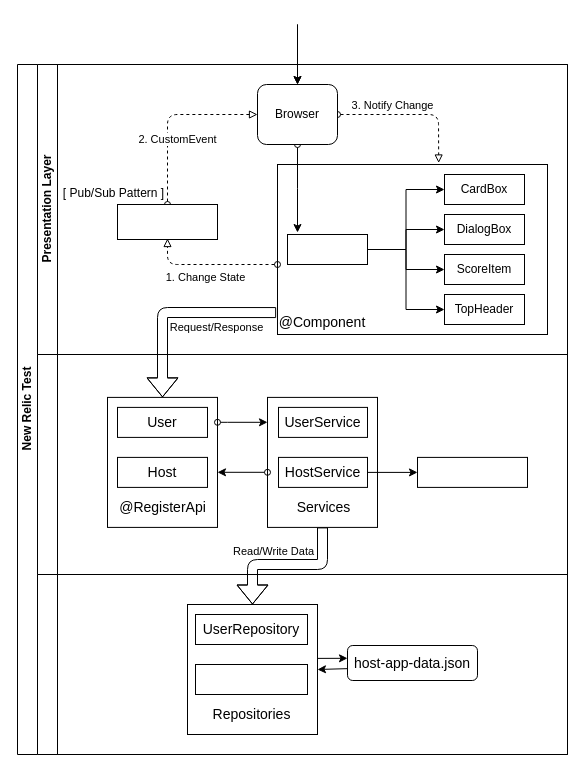
Some shapes in this 585 by 772 pixel diagram are drawn without their labels. Each missing label, with the box of its shape:
AppPage: (286, 234, 368, 264)
Business Layer: (36, 354, 568, 574)
Data Access Layer: (36, 574, 568, 754)
HostRepository: (194, 664, 308, 694)
minHeapSort: (416, 456, 528, 487)
Store: (116, 204, 218, 240)
